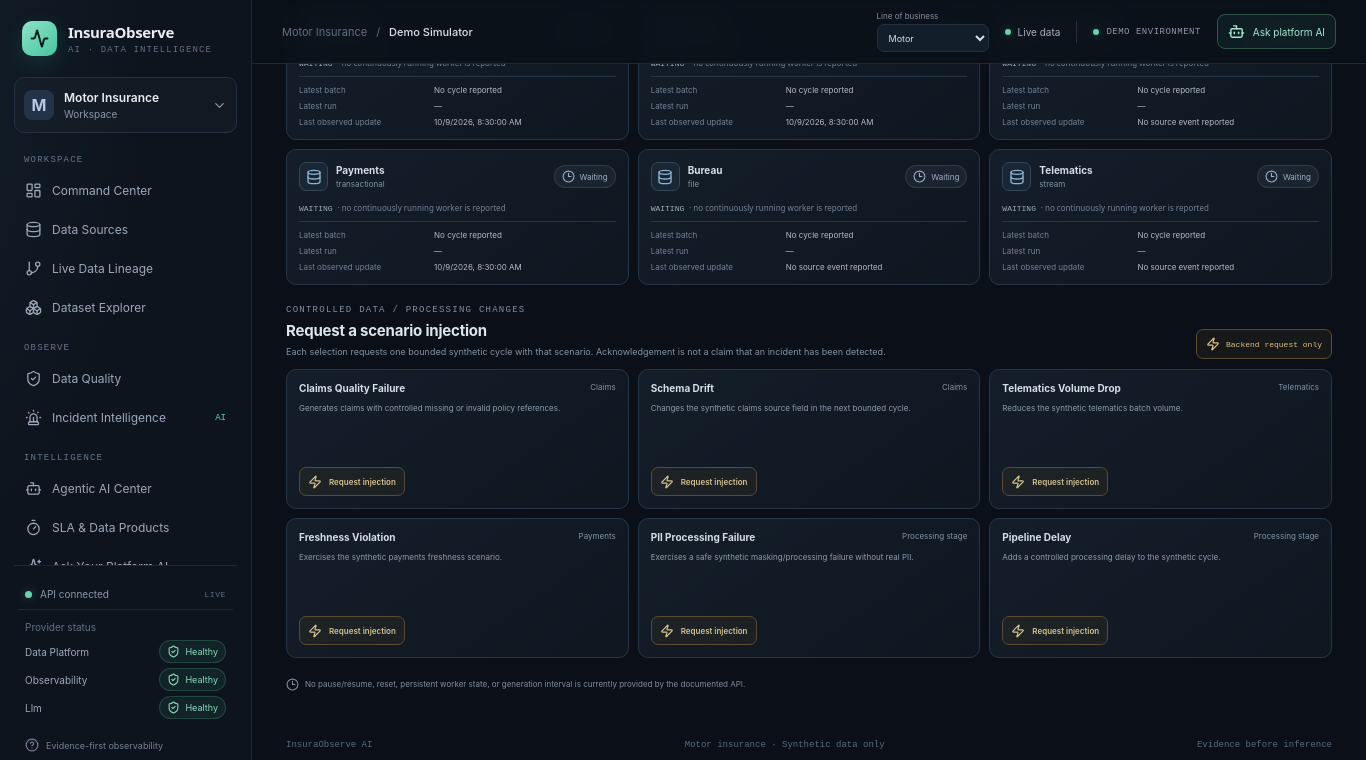
frontend route shell › runs only documented simulator cycles and reports scenario acknowledgement without mutating observability views
(page scrolled)
Expected: the heading "Telematics" is shown, [1039, 164, 1093, 176]
Click the button with aria-label "Request Claims Quality Failure injection" at (352, 482), box [299, 467, 405, 496]
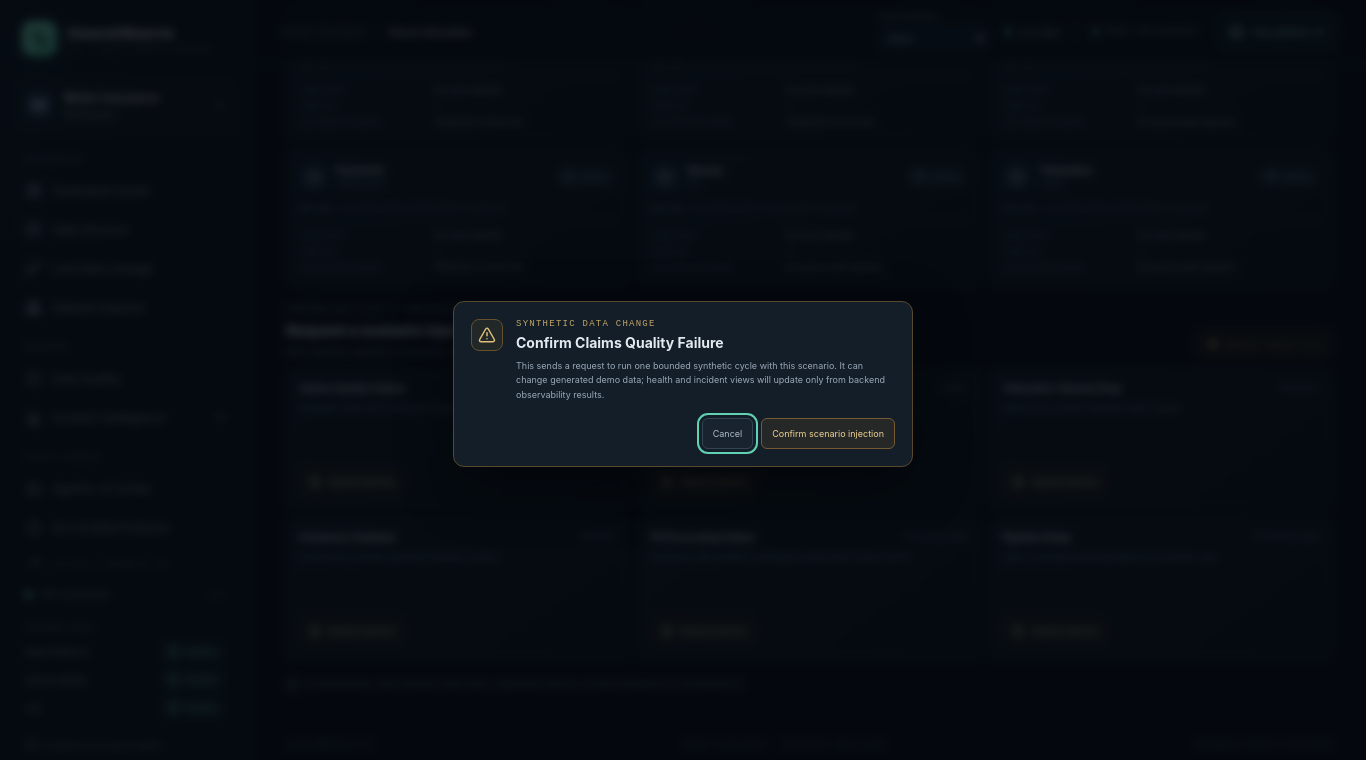
Result: the dialog "Confirm Claims Quality Failure" is shown at [453, 301, 913, 467]
Press Escape
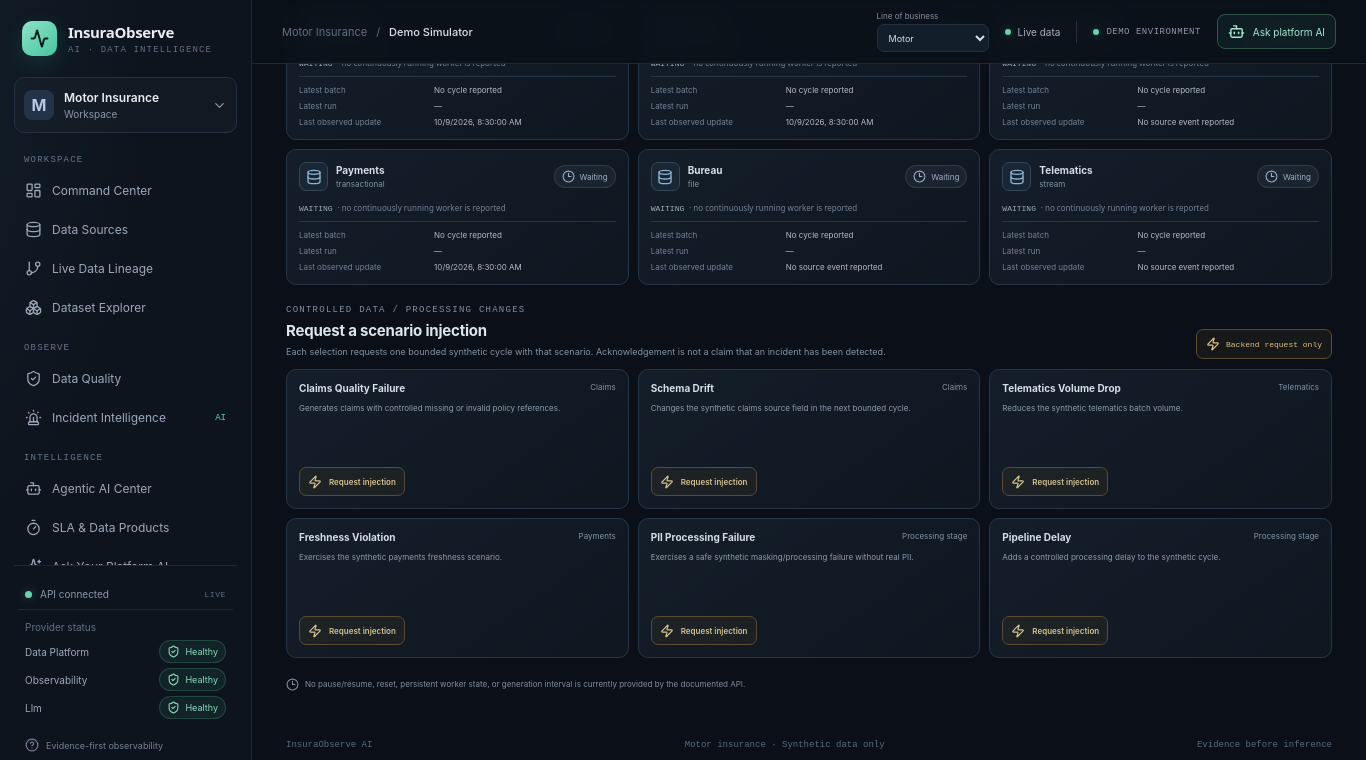
Result: the dialog is gone
Click the button with aria-label "Request Claims Quality Failure injection" at (352, 482), box [299, 467, 405, 496]
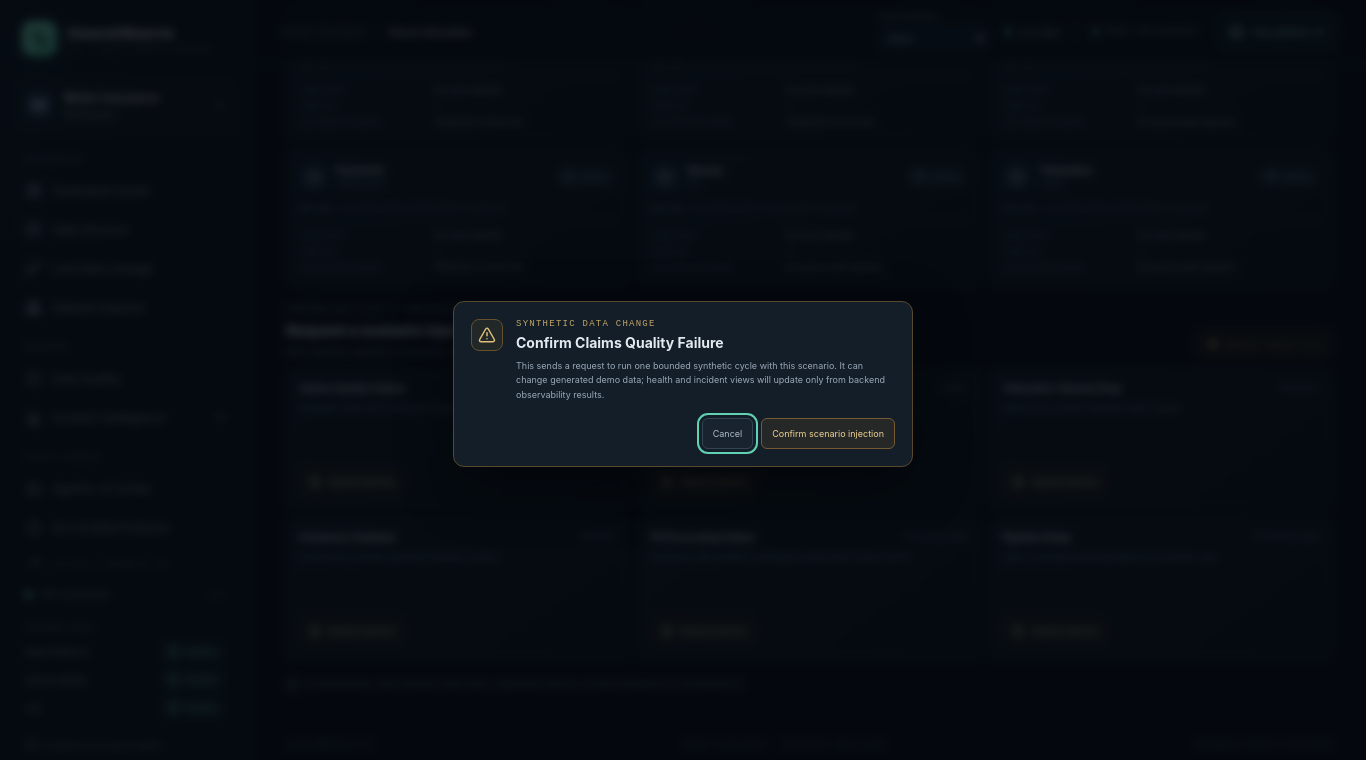
Click the button "Confirm scenario injection" at (828, 434), box [761, 418, 895, 449]
(page scrolled)
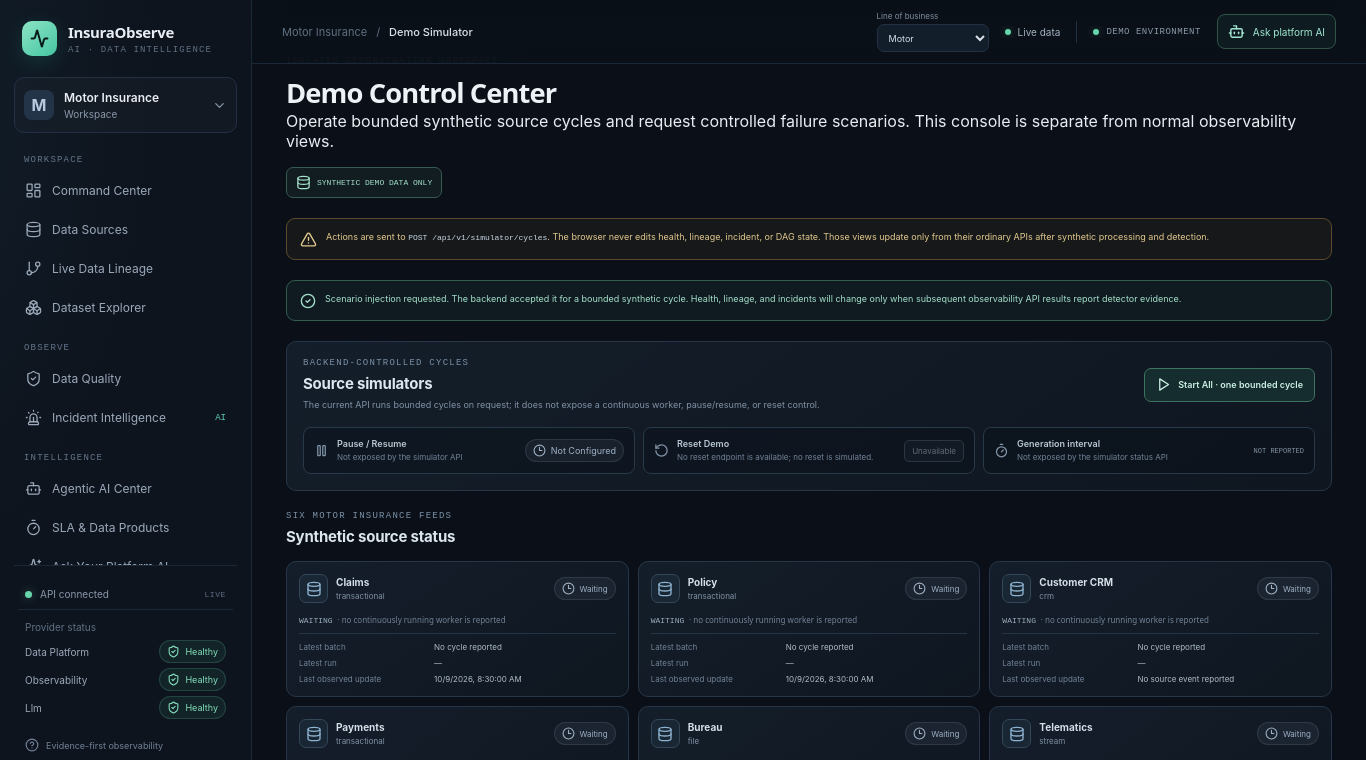
Result: the text "Scenario injection requested" is shown at [325, 293, 1182, 304]
Click the button "Start All · one bounded cycle" at (1230, 385), box [1144, 368, 1315, 402]
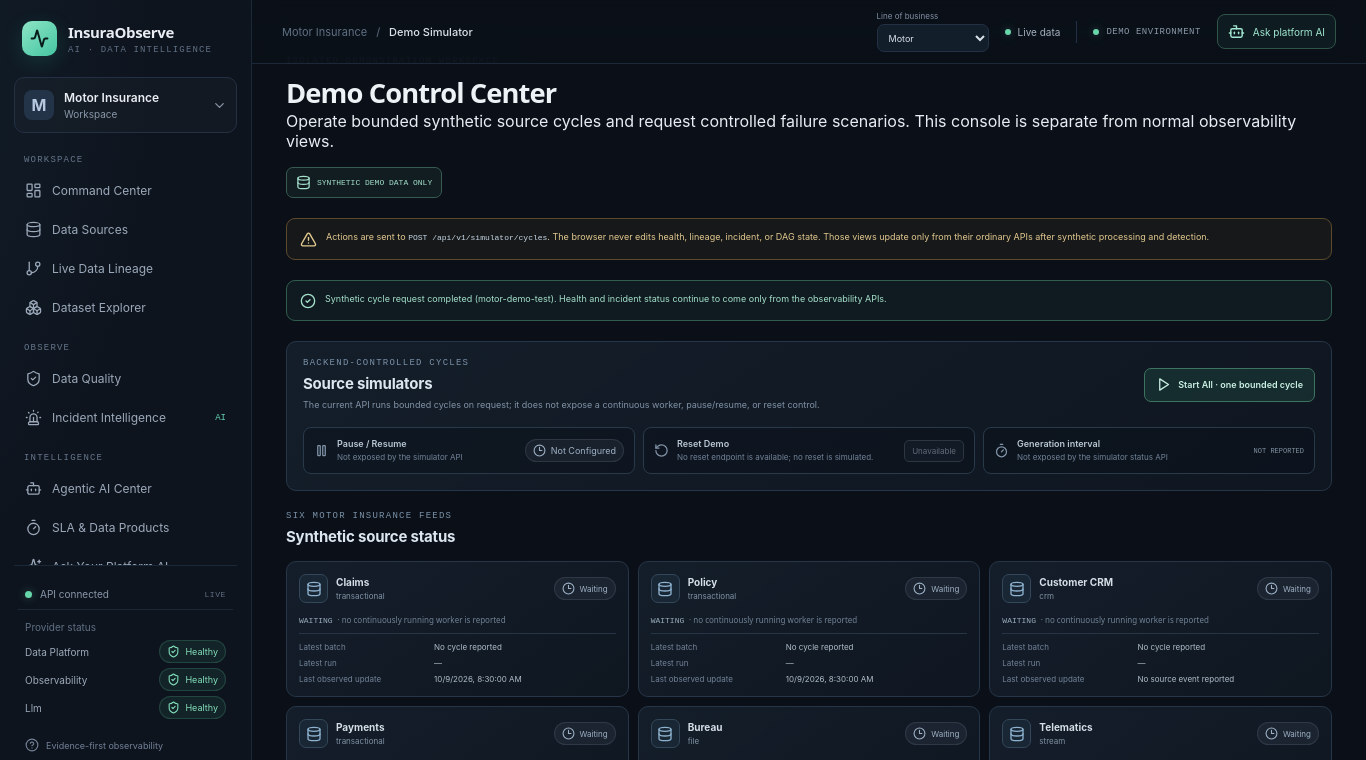
Result: the text "Synthetic cycle request completed" is shown at [325, 293, 887, 304]
